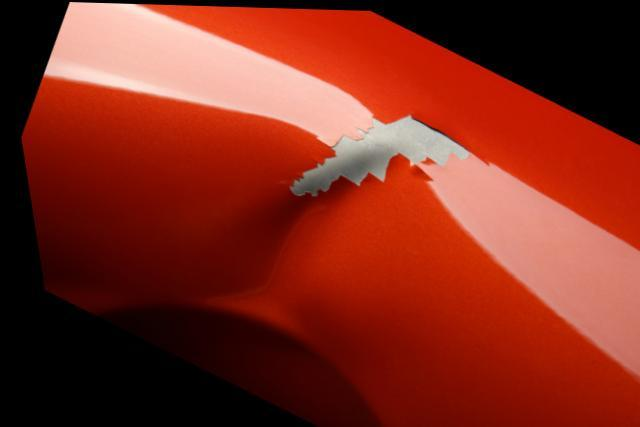dent: (183, 139, 422, 336)
